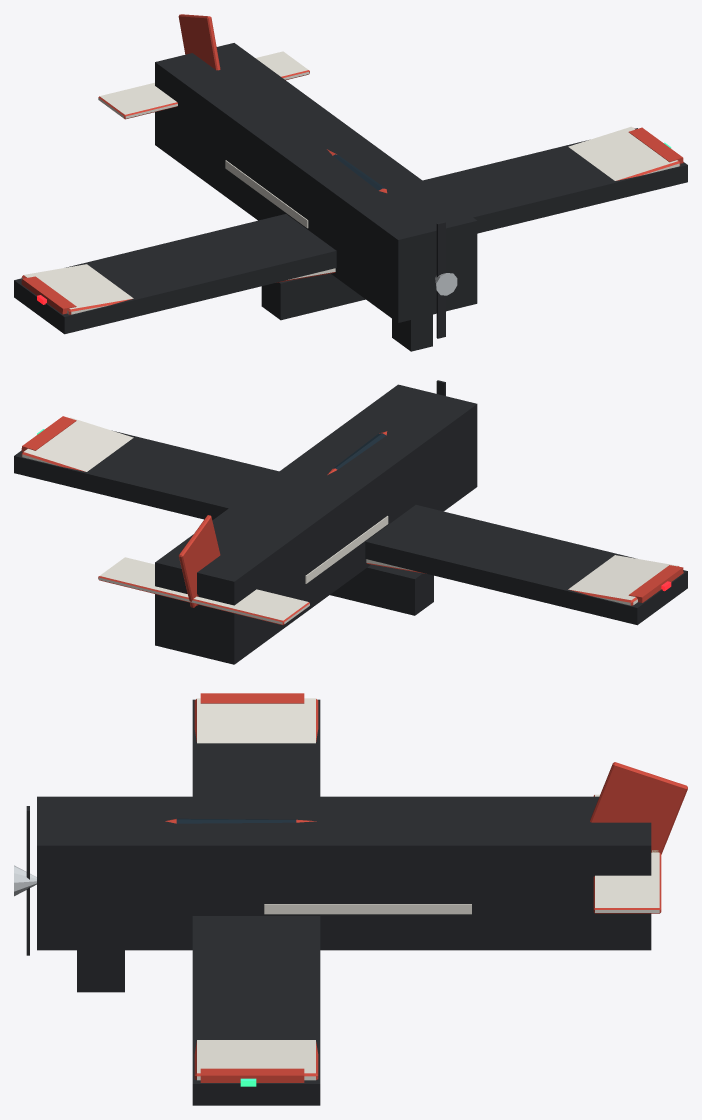
The model's file is VEH_Plane.fbx.
3 renders of one model, top to bottom at view 1: azimuth 30°, elevation 25°; view 2: azimuth 150°, elevation 25°; view 3: azimuth 270°, elevation 25°, orthographic. The views are drawn at different scales.
Visible parts, largest first — view 1: VEH_Plane__COL_Body, VEH_Plane__COL_Wing, VEH_Plane__BODY, VEH_Plane__COL_Gear, VEH_Plane__PROP, VEH_Plane__COL_Nose; view 2: VEH_Plane__COL_Body, VEH_Plane__COL_Wing, VEH_Plane__BODY, VEH_Plane__COL_Gear; view 3: VEH_Plane__COL_Body, VEH_Plane__COL_Wing, VEH_Plane__BODY, VEH_Plane__COL_Nose, VEH_Plane__PROP.
Boxes of the visible parts, x1=… form: VEH_Plane__COL_Body: x1=155, y1=43, x2=477, y2=322; VEH_Plane__COL_Wing: x1=14, y1=128, x2=687, y2=334; VEH_Plane__BODY: x1=21, y1=14, x2=683, y2=314; VEH_Plane__COL_Gear: x1=261, y1=273, x2=365, y2=320; VEH_Plane__PROP: x1=435, y1=221, x2=457, y2=338; VEH_Plane__COL_Nose: x1=392, y1=314, x2=432, y2=351; VEH_Plane__COL_Body: x1=155, y1=384, x2=477, y2=664; VEH_Plane__COL_Wing: x1=14, y1=430, x2=687, y2=625; VEH_Plane__BODY: x1=21, y1=416, x2=683, y2=625; VEH_Plane__COL_Gear: x1=330, y1=564, x2=433, y2=615; VEH_Plane__COL_Body: x1=37, y1=796, x2=651, y2=950; VEH_Plane__COL_Wing: x1=192, y1=699, x2=320, y2=1105; VEH_Plane__BODY: x1=165, y1=693, x2=687, y2=1082; VEH_Plane__COL_Nose: x1=77, y1=950, x2=124, y2=992; VEH_Plane__PROP: x1=14, y1=806, x2=36, y2=955.
Bounding box in the file's own units: 11.48 × 3.08 × 8.45.
